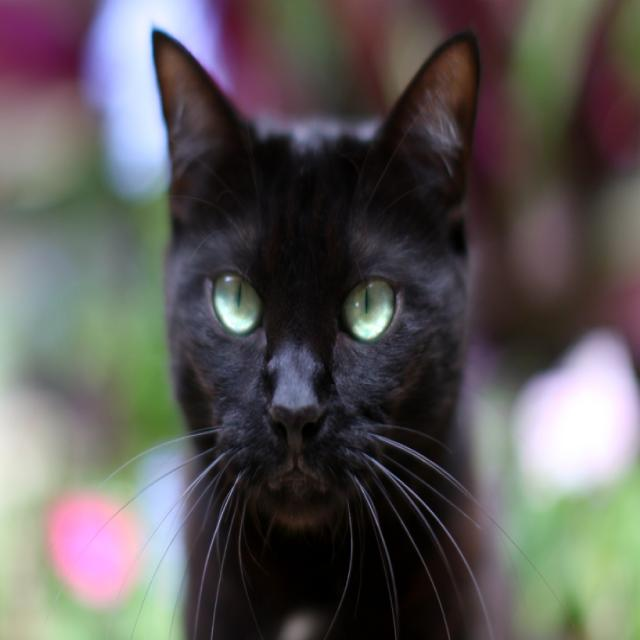Bombay: (146, 16, 487, 640)
